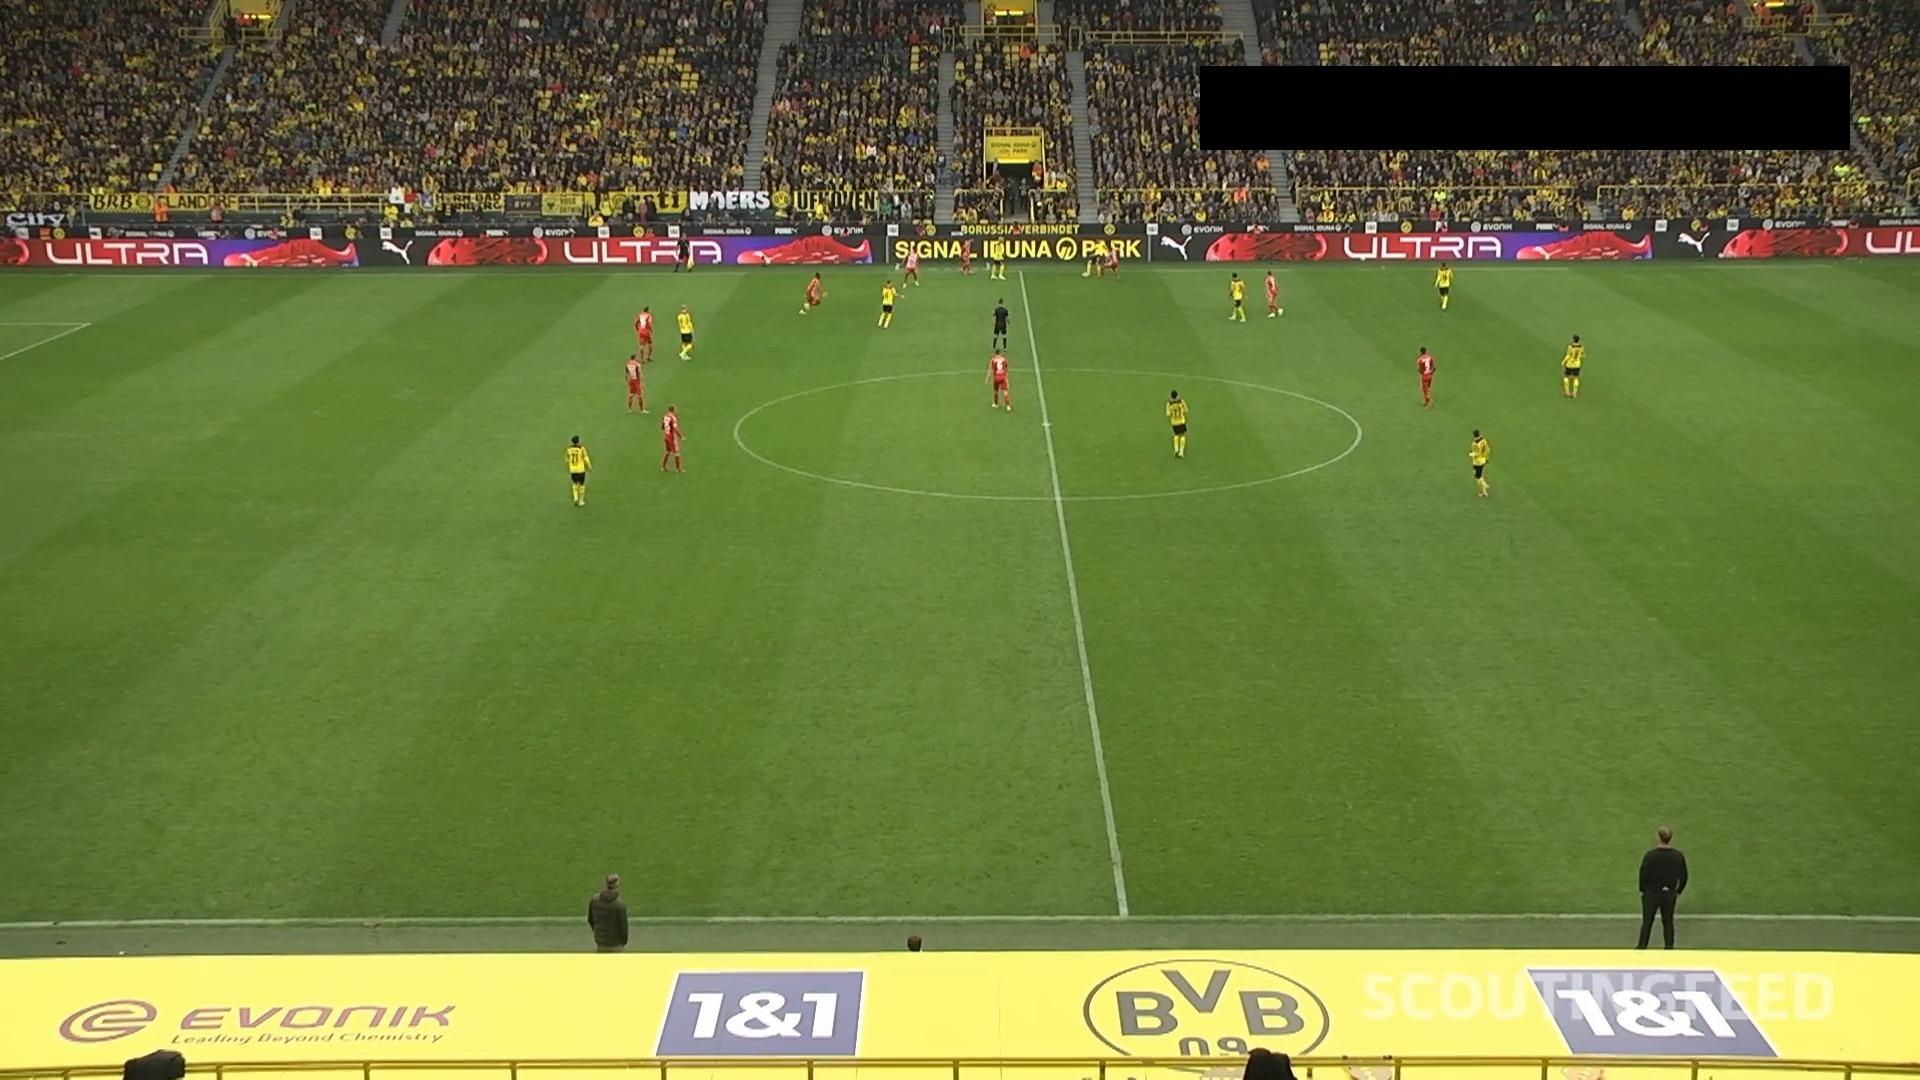ball: (1080, 271, 1089, 280)
